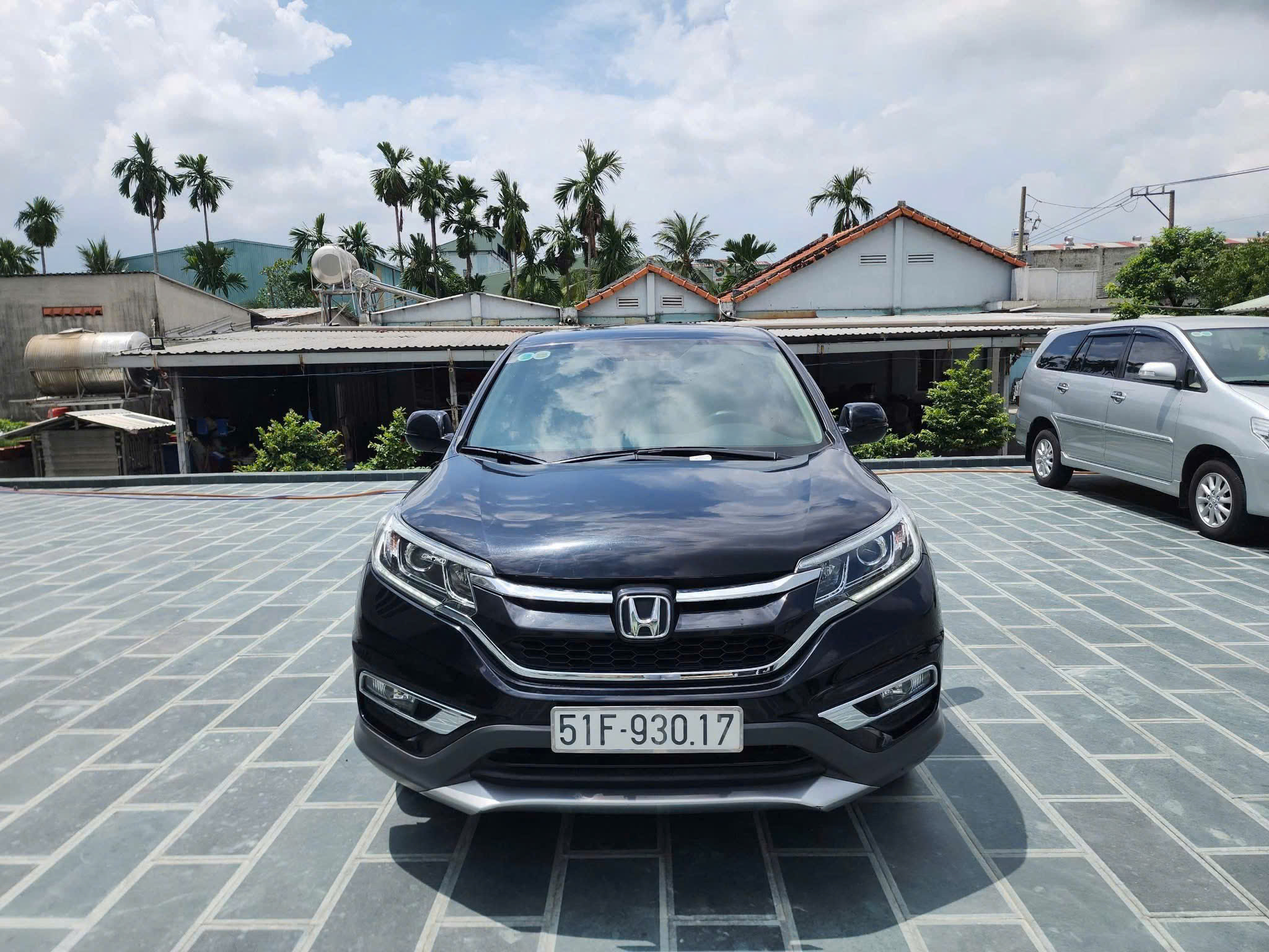Bien-so: (554, 703, 742, 745)
